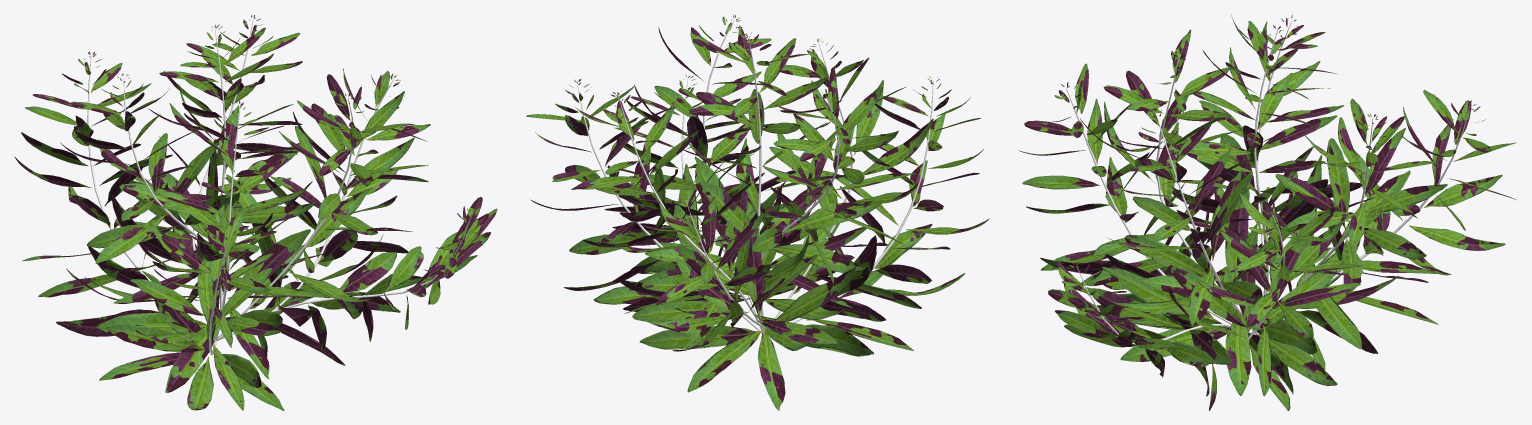
File: wukong-chinese-croton-lite.glb
3 renders of one model, left to right at view 1: azimuth 30°, elevation 25°; view 2: azimuth 150°, elevation 25°; view 3: azimuth 270°, elevation 25°, orthographic. The views are drawn at different scales.
Parts seen in each view (by area): view 1: EXPORT_Chinese_Croton_Variety_Plane.196, Croton_Stem_Cluster; view 2: EXPORT_Chinese_Croton_Variety_Plane.196, Croton_Stem_Cluster; view 3: EXPORT_Chinese_Croton_Variety_Plane.196, Croton_Stem_Cluster.
Part boxes in pixels (x1=…): EXPORT_Chinese_Croton_Variety_Plane.196: x1=14, y1=14, x2=497, y2=410; Croton_Stem_Cluster: x1=87, y1=19, x2=471, y2=355; EXPORT_Chinese_Croton_Variety_Plane.196: x1=526, y1=14, x2=989, y2=410; Croton_Stem_Cluster: x1=577, y1=19, x2=933, y2=333; EXPORT_Chinese_Croton_Variety_Plane.196: x1=1018, y1=14, x2=1516, y2=410; Croton_Stem_Cluster: x1=1066, y1=21, x2=1469, y2=342.
Size of the model in its own units: 2.58 by 2.02 by 2.89.
3 materials, 2 textured.
